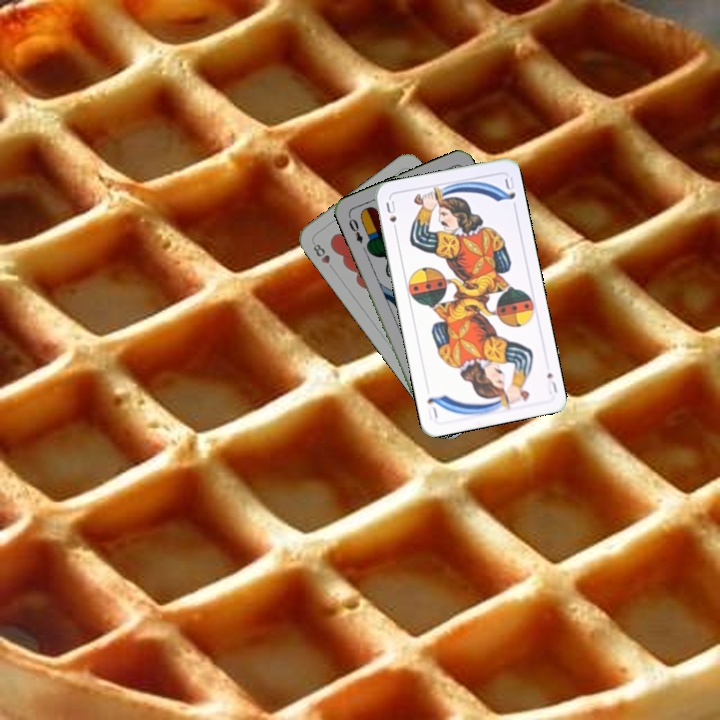EO: (344, 212, 365, 246)
H8: (309, 240, 337, 273)
SU: (382, 196, 400, 236), (542, 368, 560, 397)
